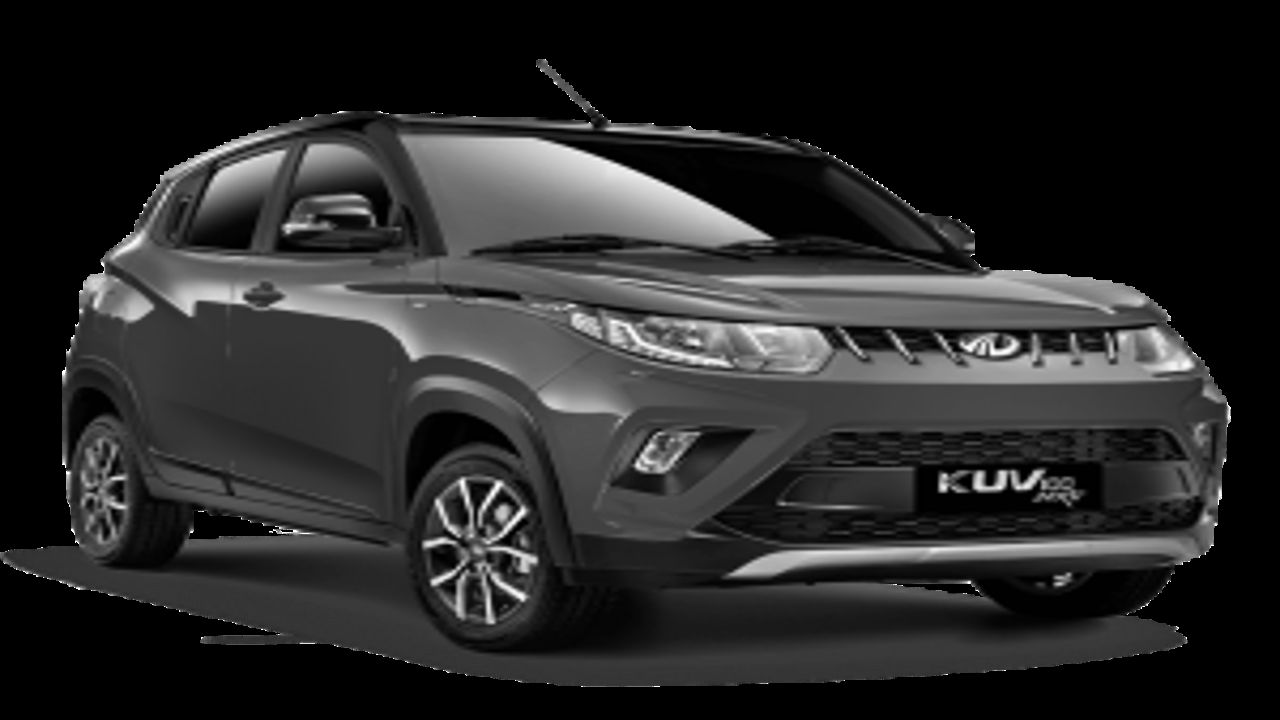license: (904, 451, 1091, 512)
